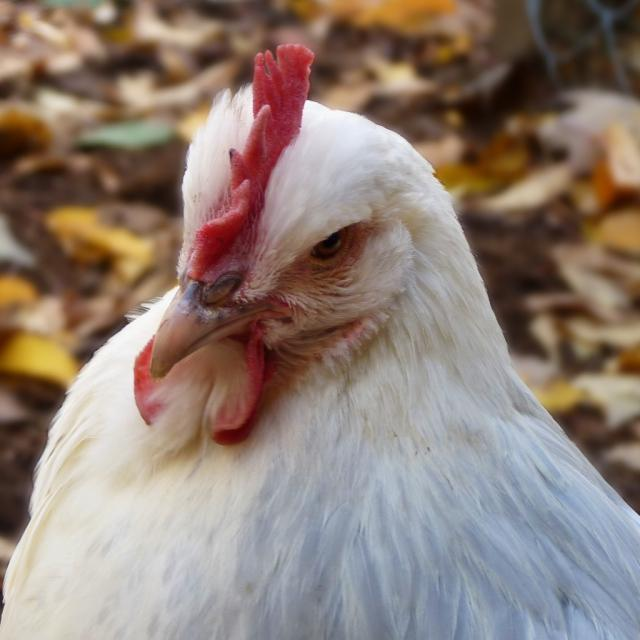Chicken: (1, 42, 640, 636)
